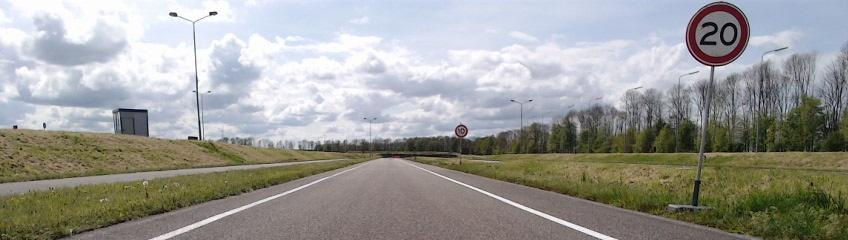Speed-limit-10km-h-: (455, 125, 468, 137)
Speed-limit-20km-h-: (686, 2, 751, 67)
